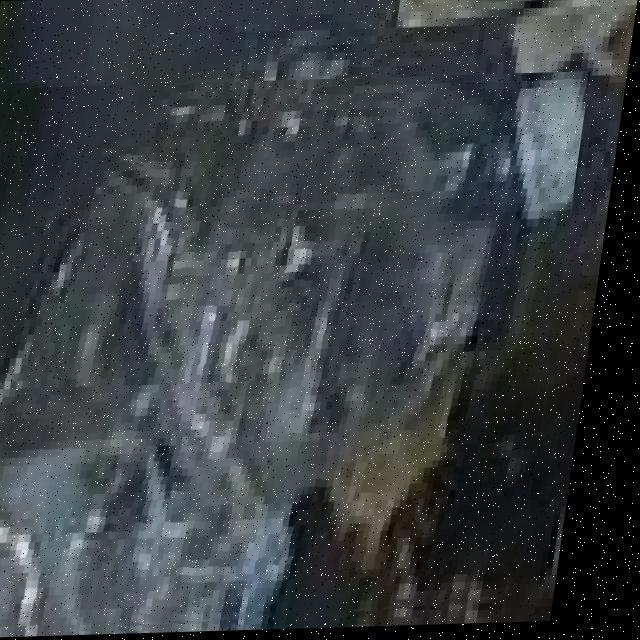litter: (0, 74, 592, 640)
